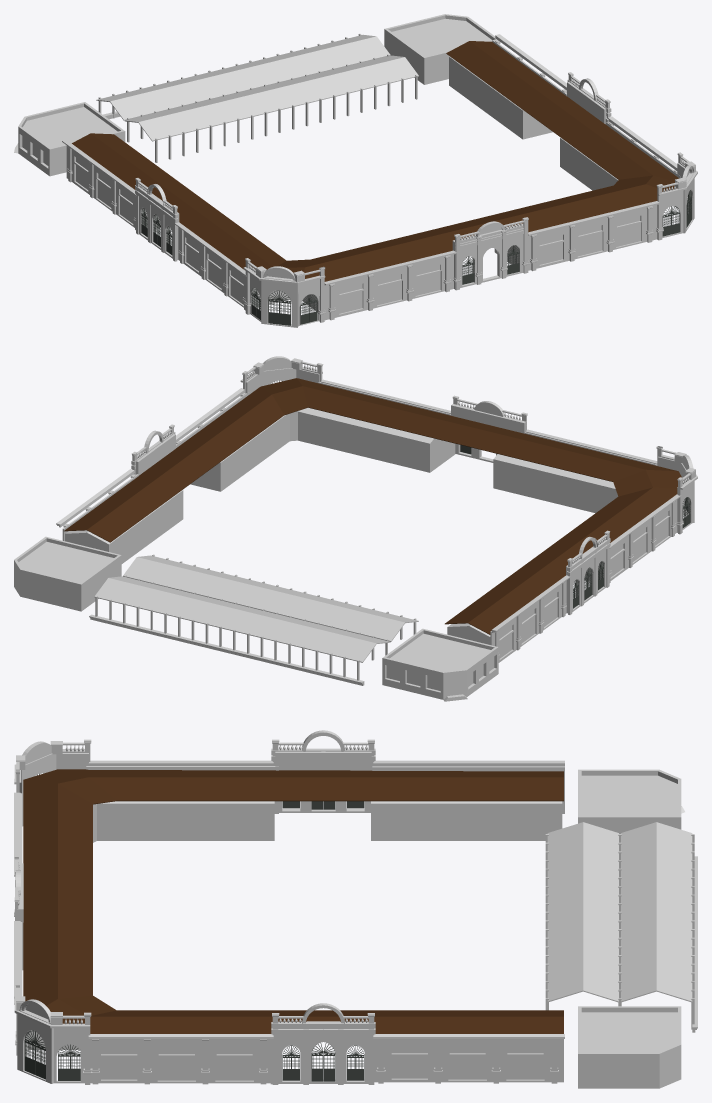
File: mercado.glb
The picture shows the model from 3 angles, top to bottom: view 1: azimuth 30°, elevation 25°; view 2: azimuth 150°, elevation 25°; view 3: azimuth 270°, elevation 25°; orthographic projection. The views are drawn at different scales.
Visible parts, largest first — view 1: Exterior, Cubo.002, Exterior.002, Exterior.001, Exterior.007, Exterior.008, Exterior.036, Cubo.003, Cubo.001, Cubo.007, Cubo.006; view 2: Exterior, Cubo.002, Exterior.007, Exterior.008, Cubo.007, Cubo.006; view 3: Exterior, Cubo.002, Exterior.018, Exterior.023, Cubo.005, Exterior.007, Cubo.004, Cubo.007, Exterior.008, Cubo.006, Exterior.039, Exterior.034 (+1 smaller).
Part boxes in pixels (x1,y1,x2,y2): Exterior: [14, 14, 697, 327]; Cubo.002: [72, 41, 678, 281]; Exterior.002: [528, 205, 657, 270]; Exterior.001: [324, 254, 453, 320]; Exterior.007: [66, 145, 134, 227]; Exterior.008: [178, 227, 252, 307]; Exterior.036: [268, 290, 290, 325]; Cubo.003: [324, 250, 456, 285]; Cubo.001: [528, 201, 659, 235]; Cubo.007: [495, 34, 566, 90]; Cubo.006: [608, 116, 677, 170]; Exterior: [14, 356, 697, 701]; Cubo.002: [63, 378, 681, 634]; Exterior.007: [490, 580, 566, 662]; Exterior.008: [610, 500, 677, 580]; Cubo.007: [56, 469, 134, 527]; Cubo.006: [176, 388, 244, 442]; Exterior: [14, 730, 697, 1088]; Cubo.002: [23, 769, 563, 1033]; Exterior.018: [374, 1039, 563, 1082]; Exterior.023: [80, 1039, 270, 1083]; Cubo.005: [373, 760, 564, 766]; Exterior.007: [372, 766, 564, 813]; Cubo.004: [88, 760, 273, 765]; Cubo.007: [373, 1034, 564, 1038]; Exterior.008: [86, 766, 278, 813]; Cubo.006: [88, 1034, 273, 1038]; Exterior.039: [24, 1030, 45, 1079]; Exterior.034: [311, 1042, 335, 1081].
Bounding box in the file's own units: 60.15 × 7.84 × 60.82.
